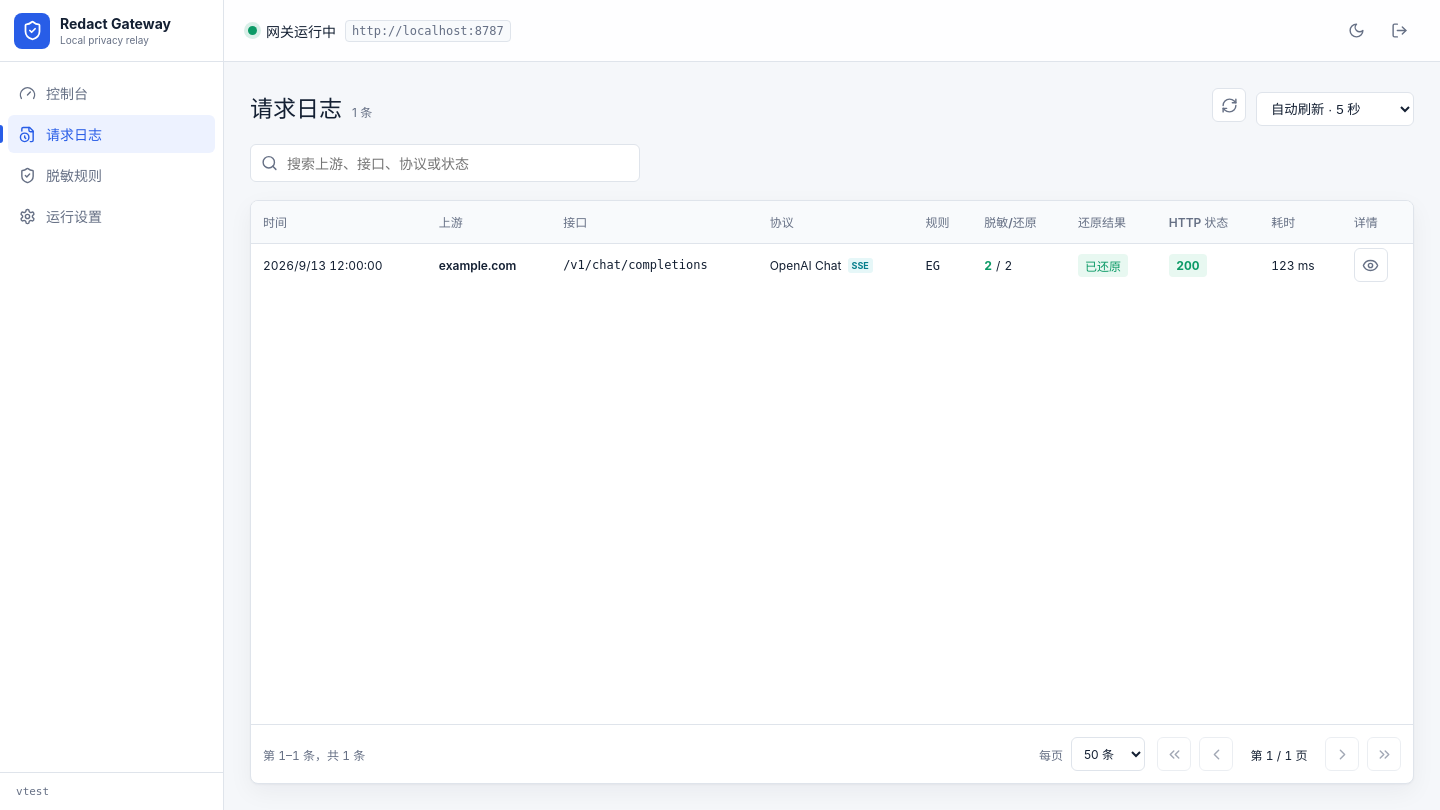
Test case: App › closes via button or backdrop, but not when clicking inside the dialog
Click the button named "查看请求 request-one 的详情".
click(1371, 265)  # box [1354,248,1388,282]
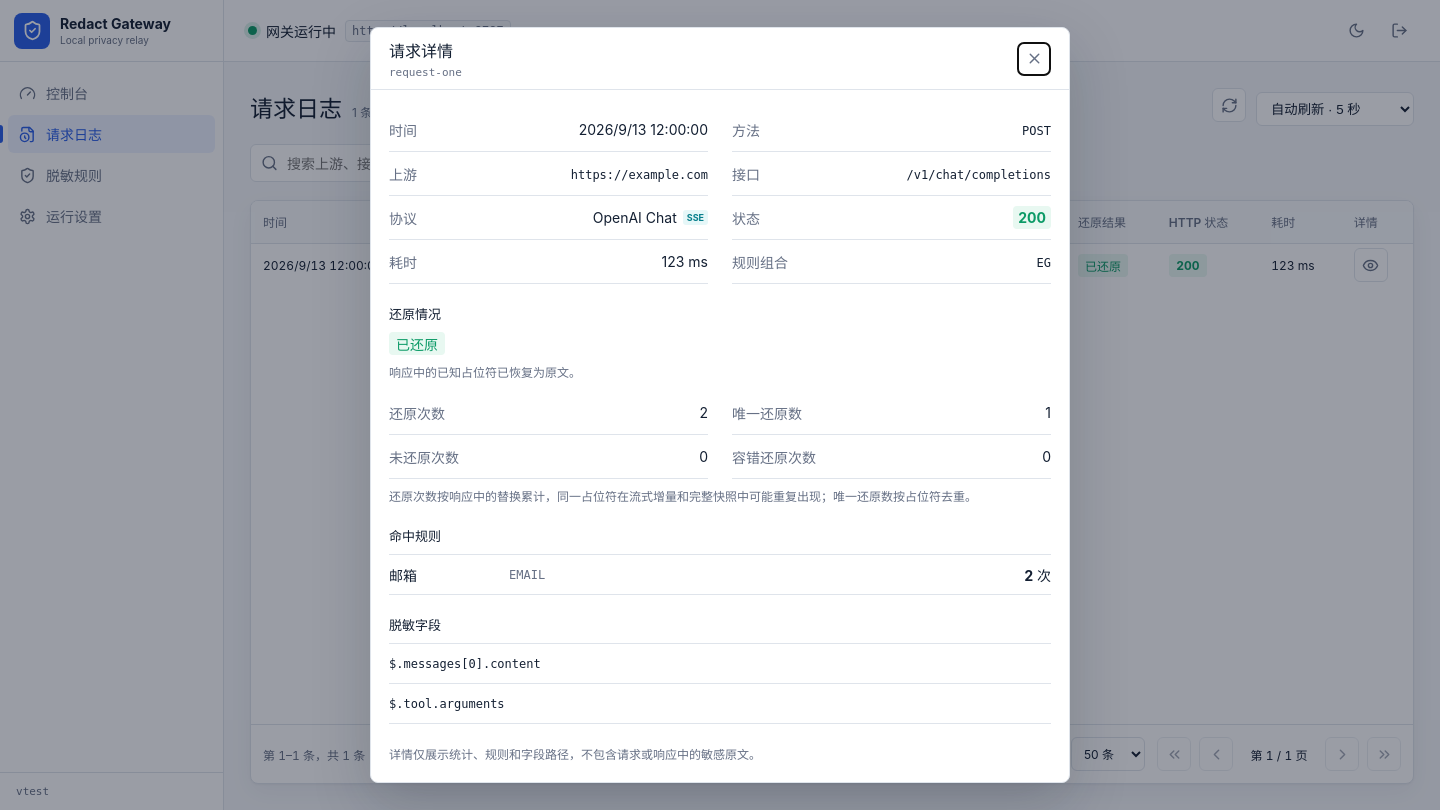
Press the mouse on the dialog at (720, 405), box [370,27,1070,783]
Result: the dialog is shown at [370,27,1070,783]
Click the button named "关闭请求详情".
click(1034, 58)  # box [1017,42,1051,76]
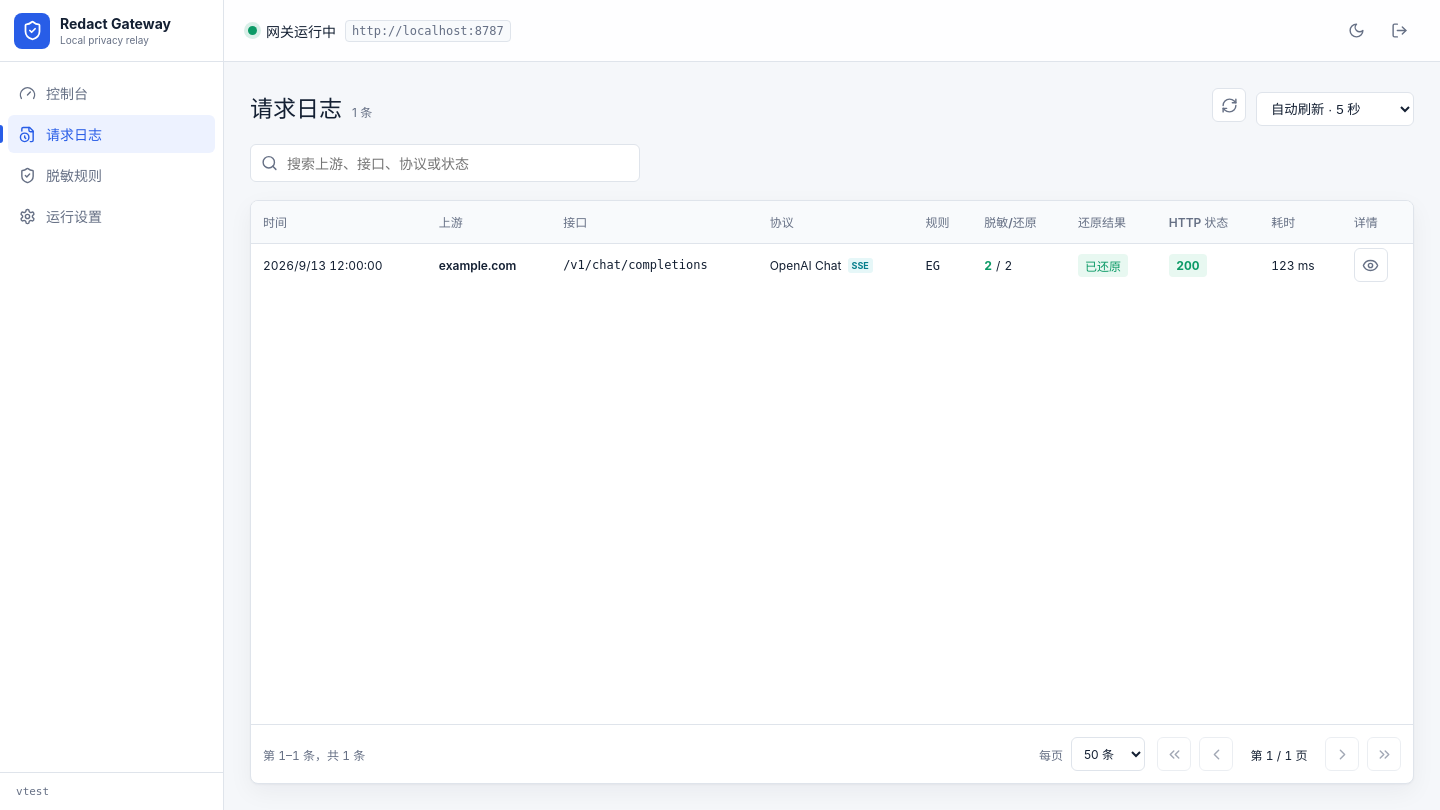
Result: the dialog is gone
Click the button named "查看请求 request-one 的详情".
click(1371, 265)  # box [1354,248,1388,282]
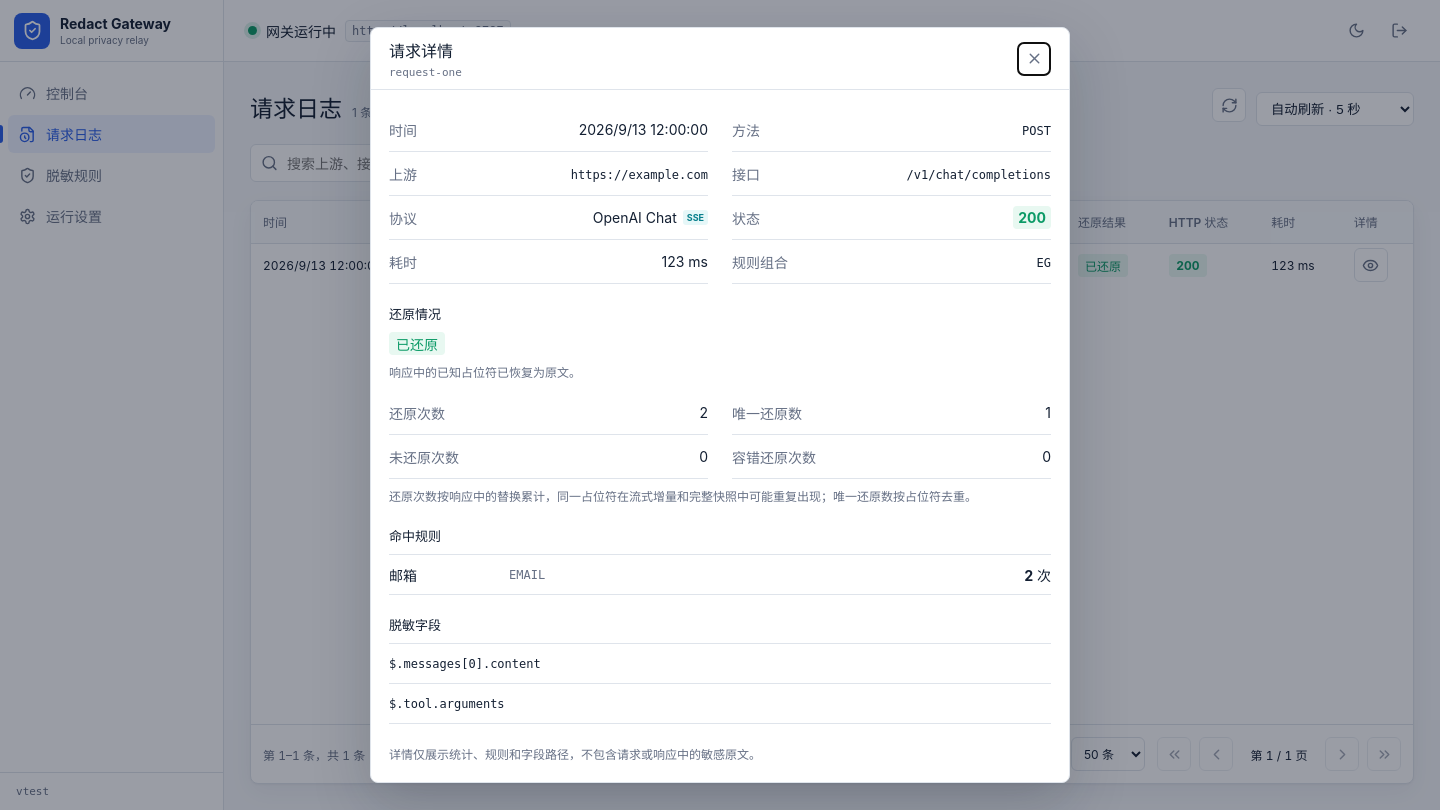
Press the mouse on the element that starts with "请求详情" at (720, 405), box [0,0,1439,809]
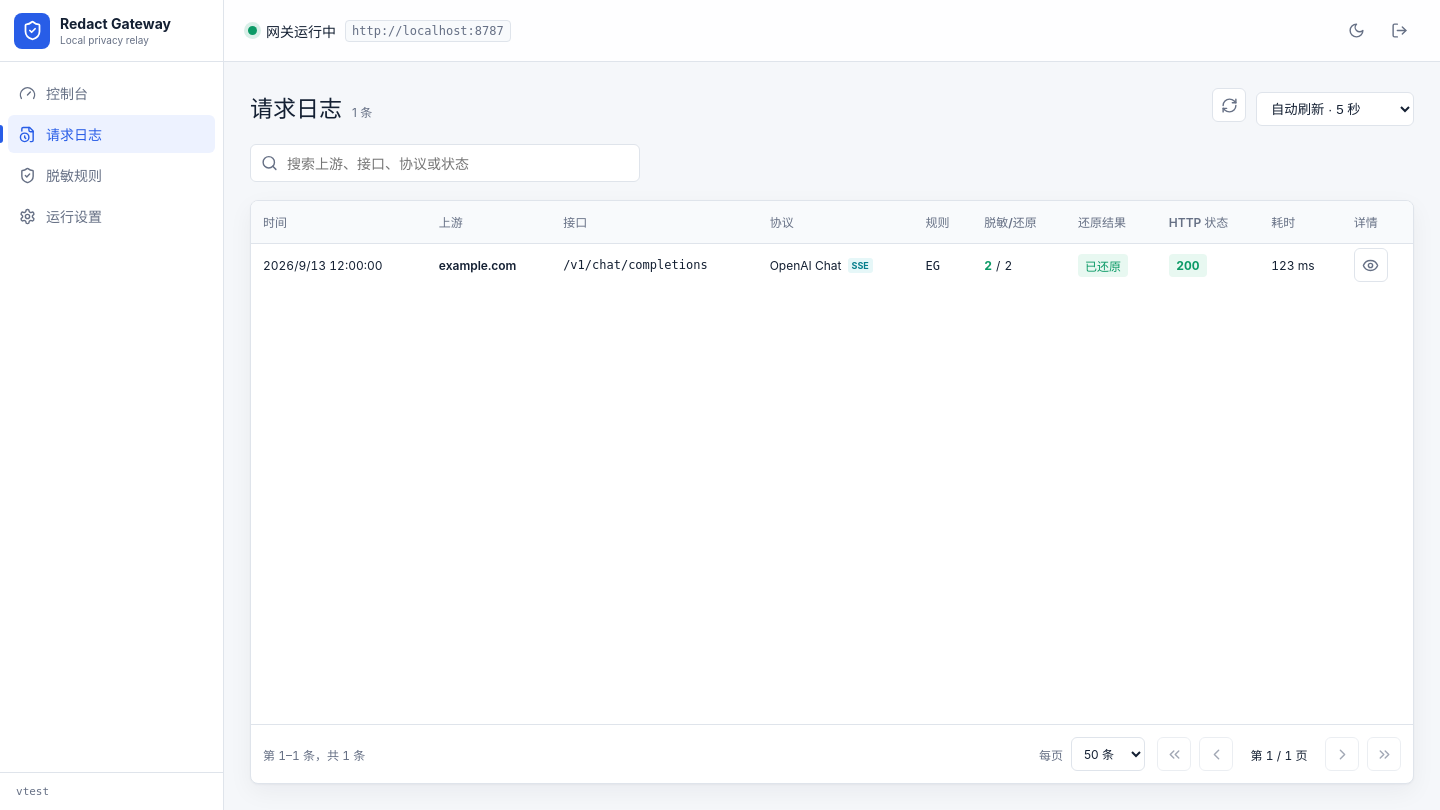
Result: the dialog is gone
